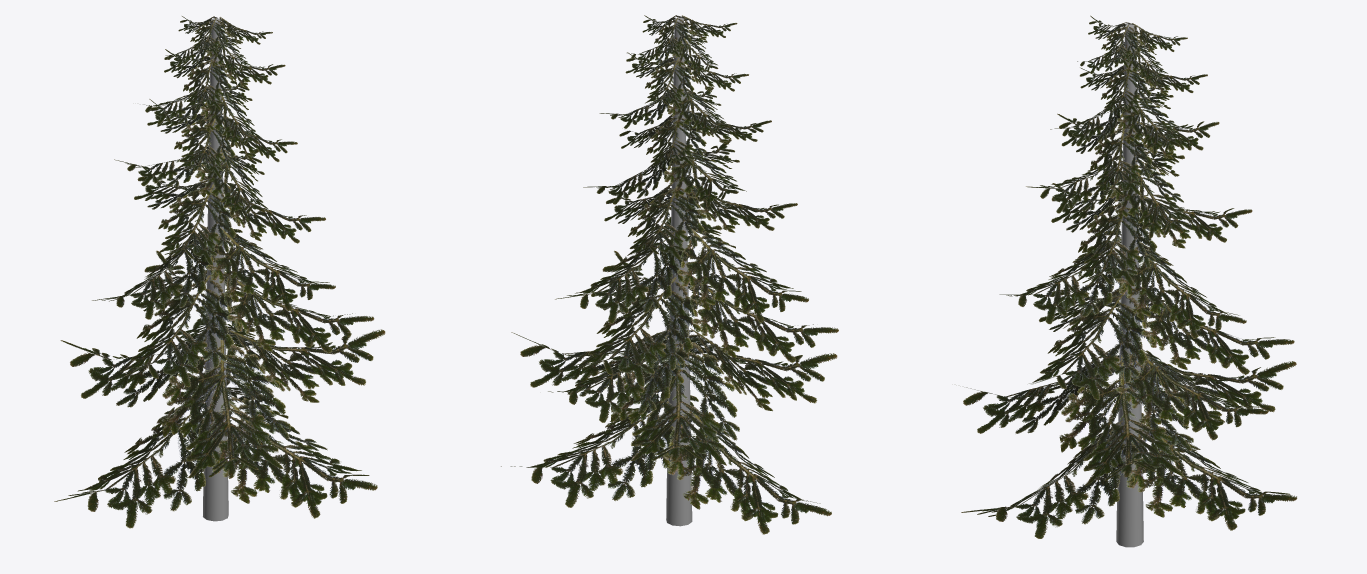
File: SM_Fir2.fbx
3 renders of one model, left to right at view 1: azimuth 30°, elevation 25°; view 2: azimuth 150°, elevation 25°; view 3: azimuth 270°, elevation 25°, orthographic. The views are drawn at different scales.
Visible parts, largest first — view 1: polySurface129; view 2: polySurface129; view 3: polySurface129.
Boxes of the visible parts, box(x1,y1,x2,y2) form: polySurface129: box(54, 16, 385, 528); polySurface129: box(501, 15, 838, 534); polySurface129: box(961, 15, 1297, 547).
Size of the model in its own units: 735 by 1004 by 781.
Materials: 2 (1 with a texture image).
